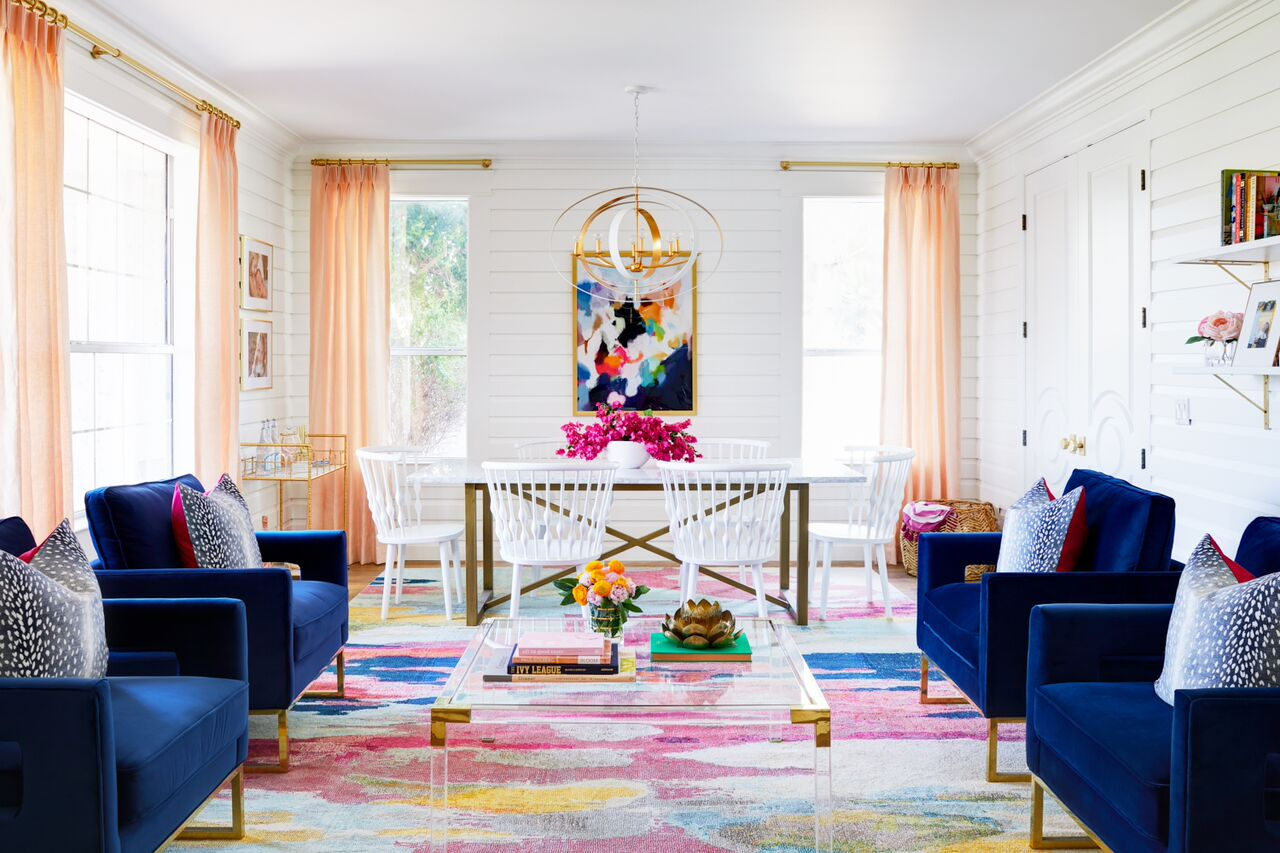biru: (1029, 519, 1280, 842), (1, 530, 251, 853), (920, 482, 1158, 680), (89, 502, 355, 665)
putih: (357, 452, 466, 619), (814, 449, 919, 603), (660, 462, 784, 568), (484, 462, 609, 564), (606, 440, 649, 468)
